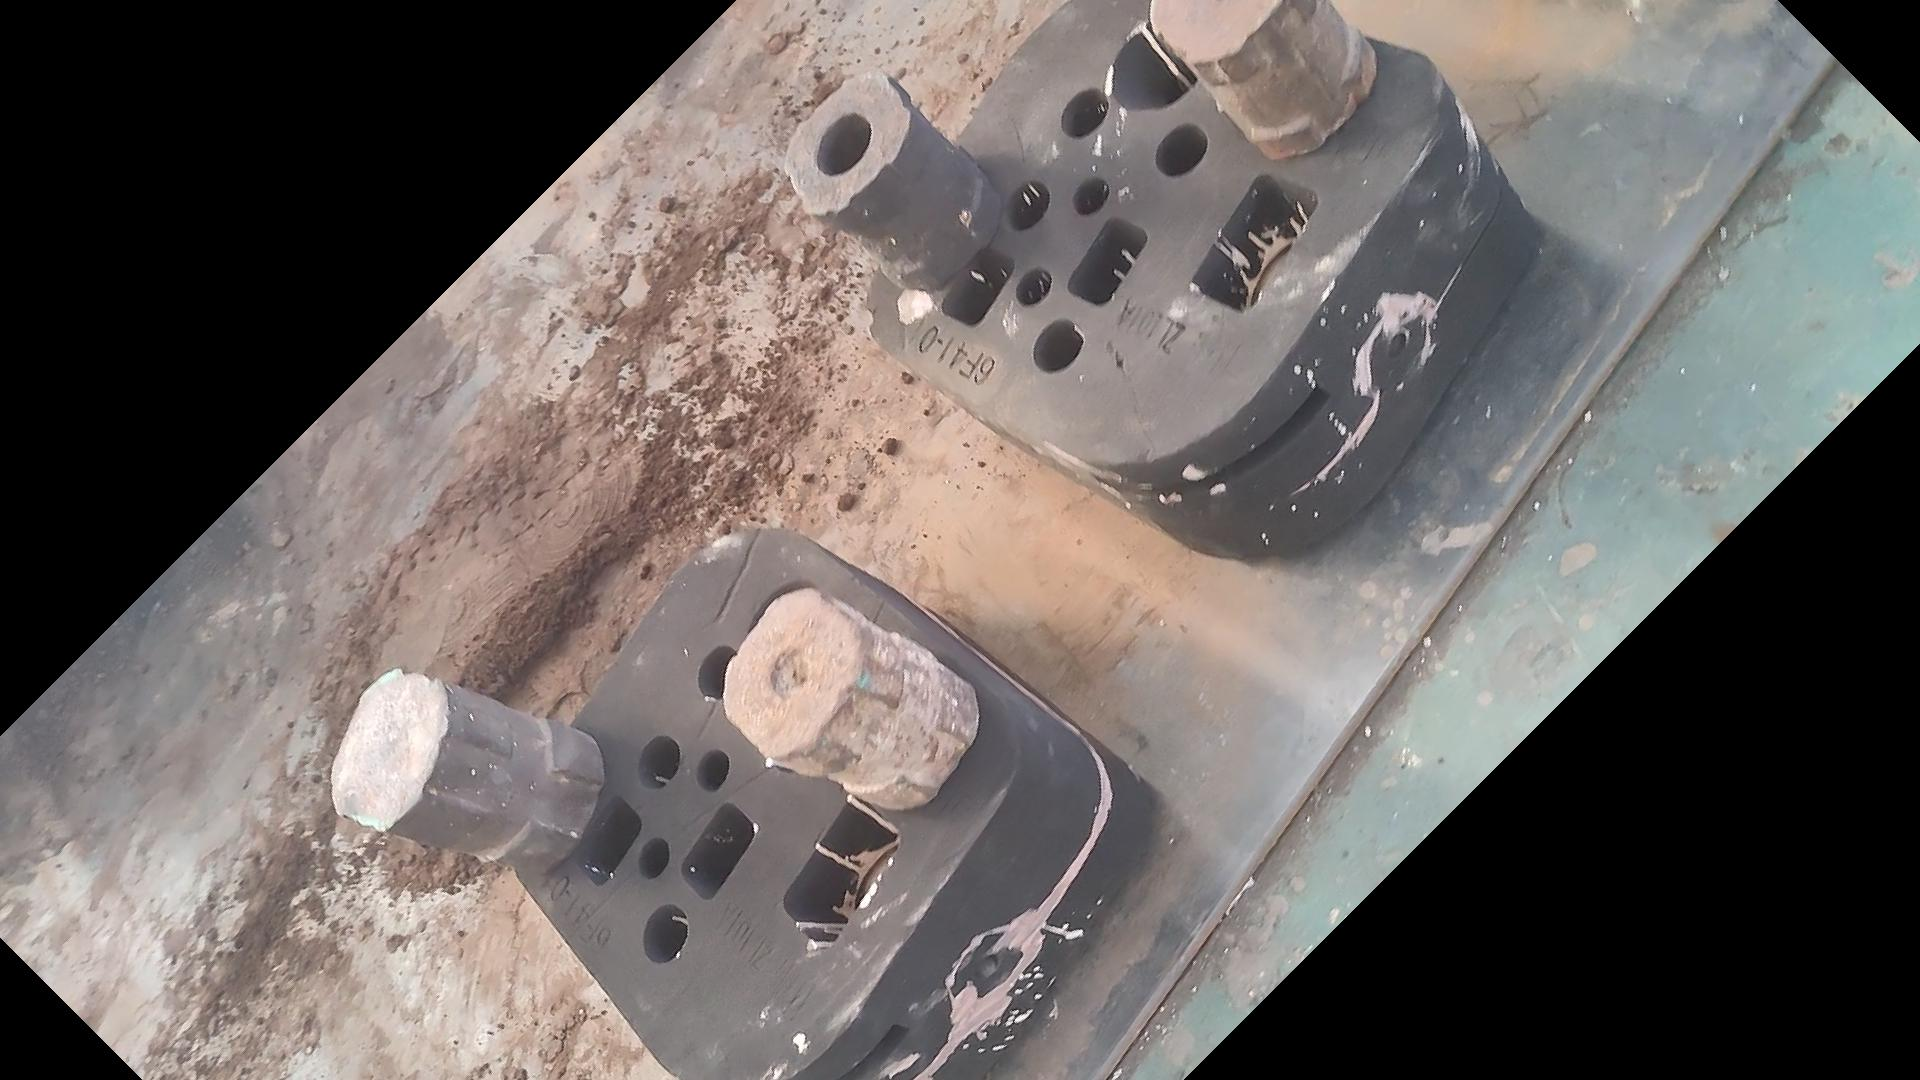pouring hole: (1112, 15, 1209, 112), (745, 582, 843, 667)
